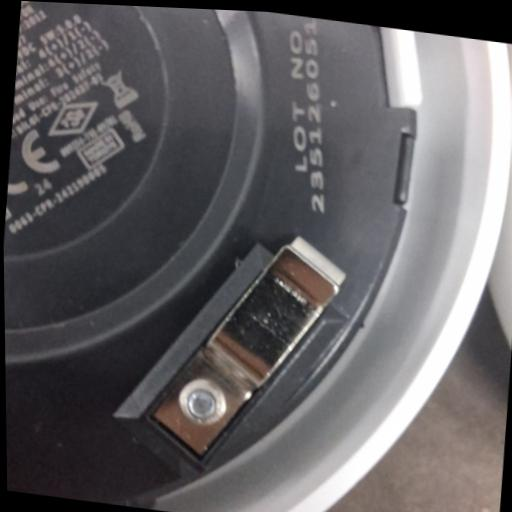yayli: (134, 219, 347, 478)
